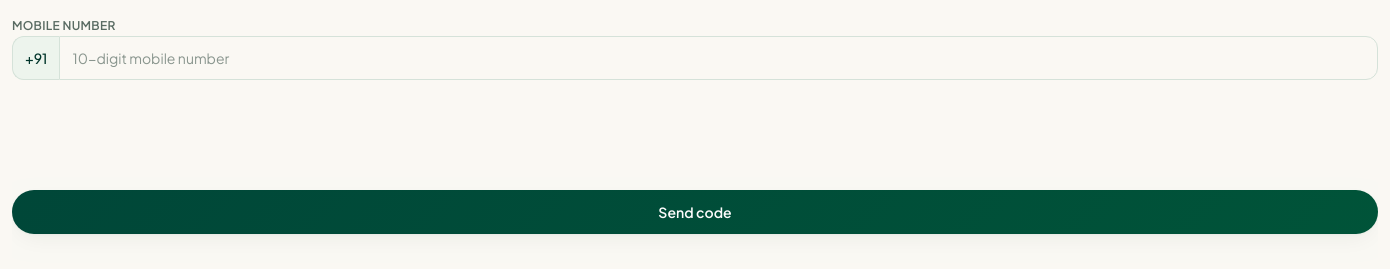
Test case: MobileOtpForm › resending › shows why a resend failed and keeps the option open
Expected: the button "Send code" is enabled, [12,190,1378,234]
Type "9876543210" into the field labelled "Mobile number" at (719, 58), box [60,36,1378,80]
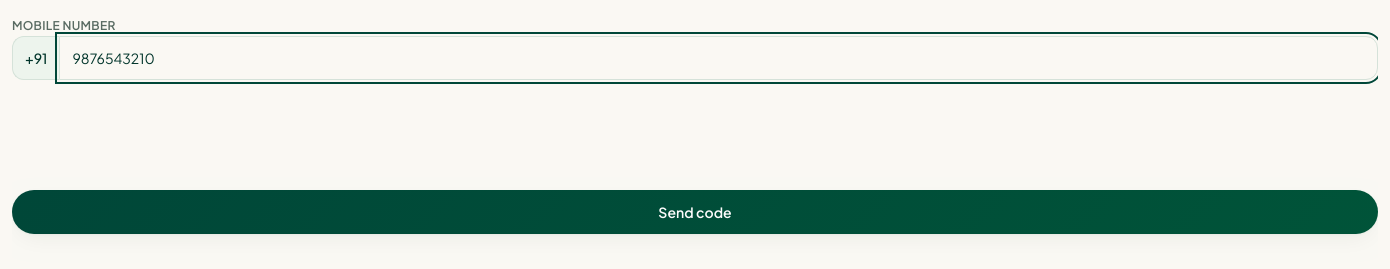
Click the button "Send code" at (695, 212), box [12,190,1378,234]
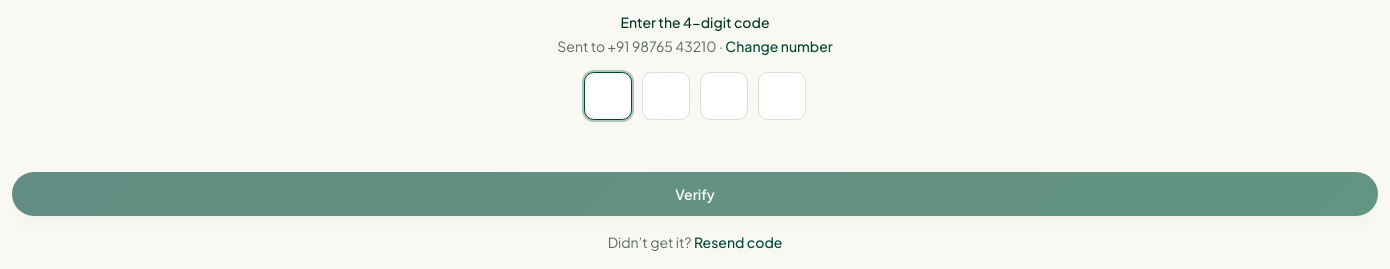
Expected: the text "Enter the 4-digit code" is shown, [620,13,770,31]
Click the button "Resend code" at (738, 242), box [694,232,782,252]
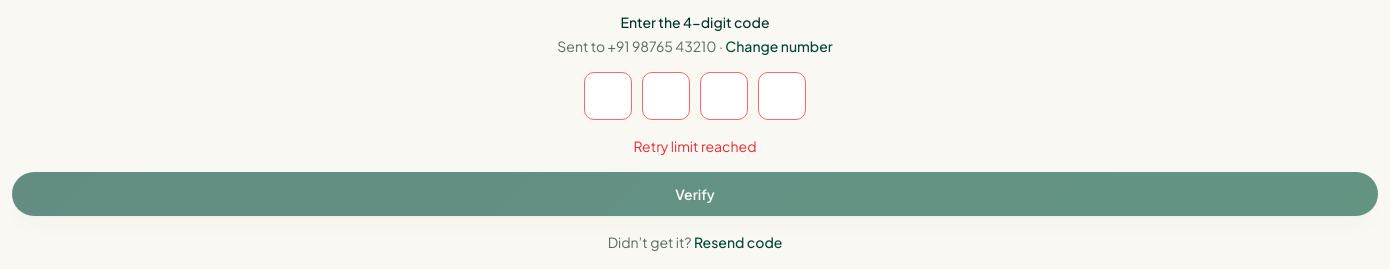
Expected: the button "Resend code" is shown, [694,232,782,252]
Expected: the message reads "Retry limit reached", [634,137,756,155]
